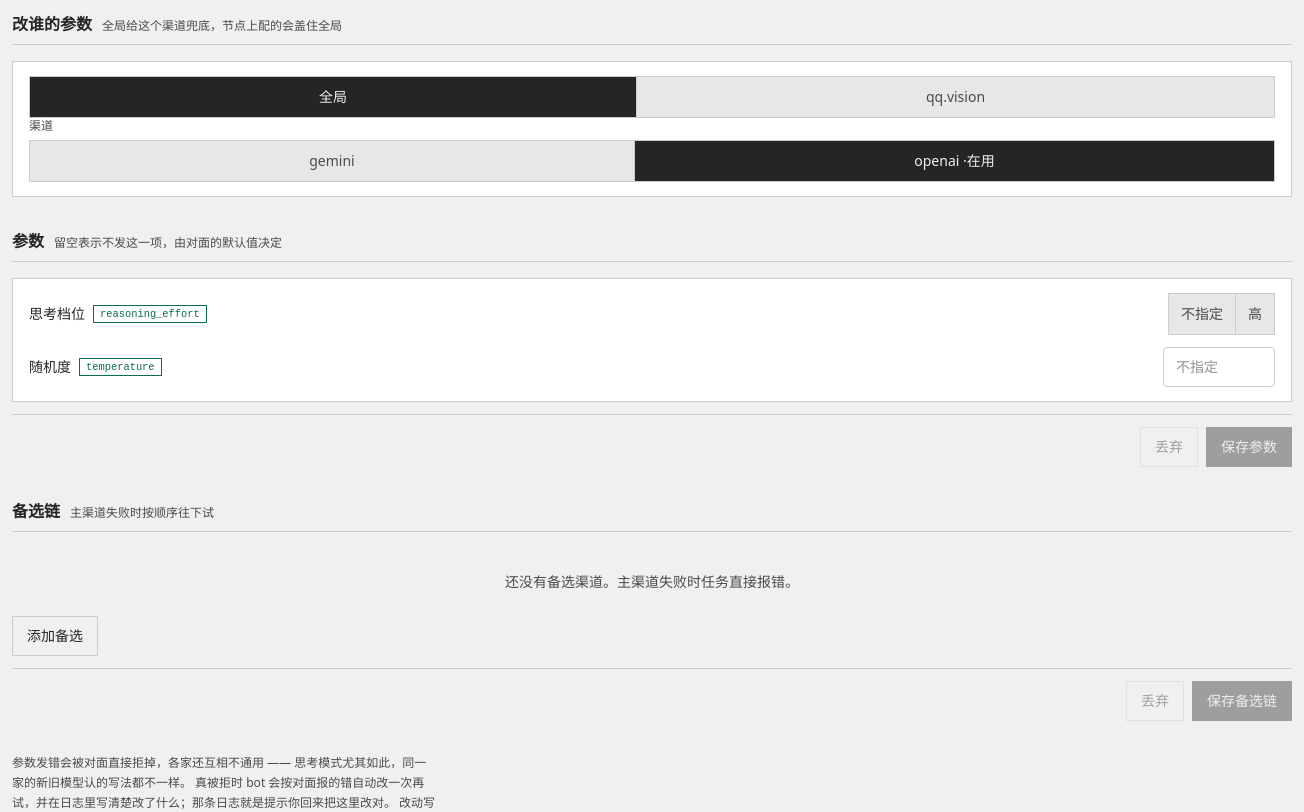
Test case: 模型参数页 › 依赖项没满足时子控件不出现
Click the button "qq.vision".
click(955, 97)  # box [636,77,1274,117]
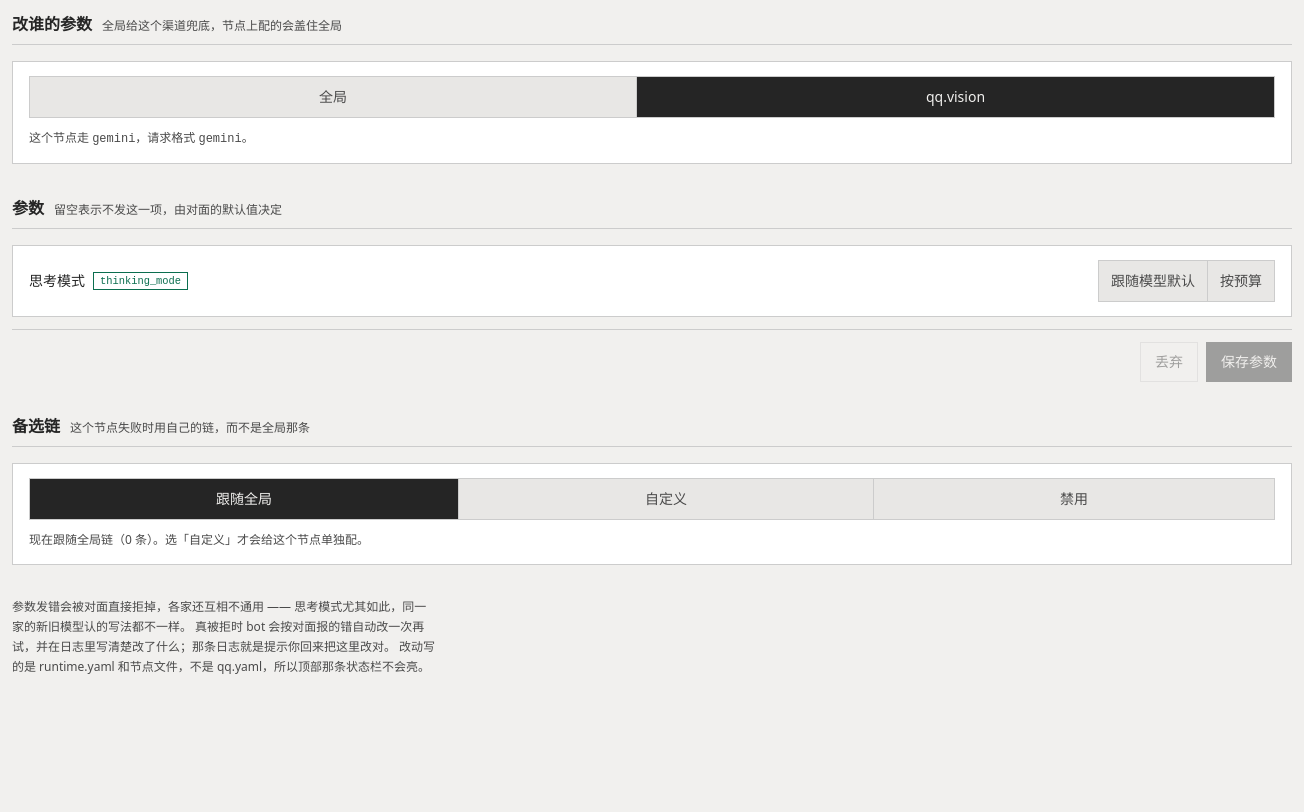
Expected: the text "思考预算" is not shown
Now the text "思考模式" is shown, box [29,270,85,292]
Click the button "按预算".
click(1240, 281)  # box [1207,261,1274,301]
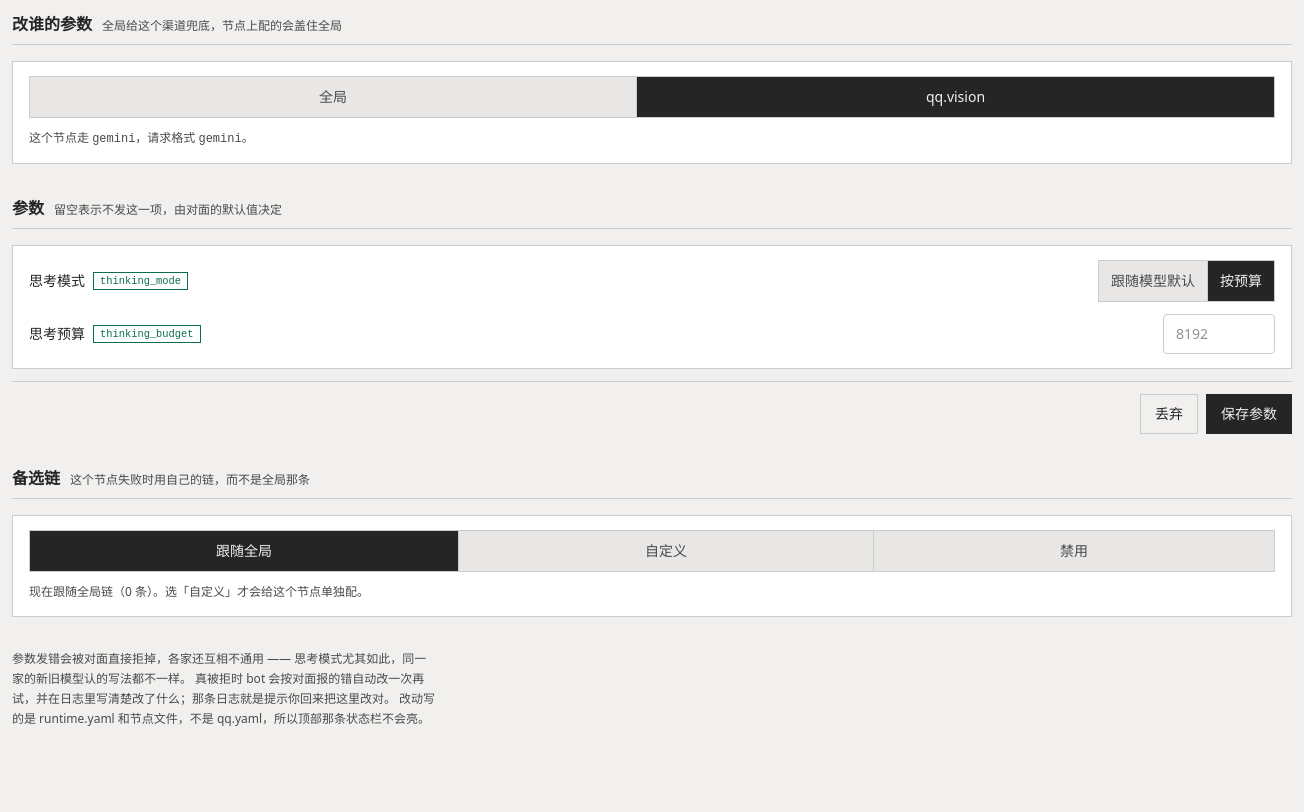
Now the text "思考预算" is shown, box [29,323,85,345]
